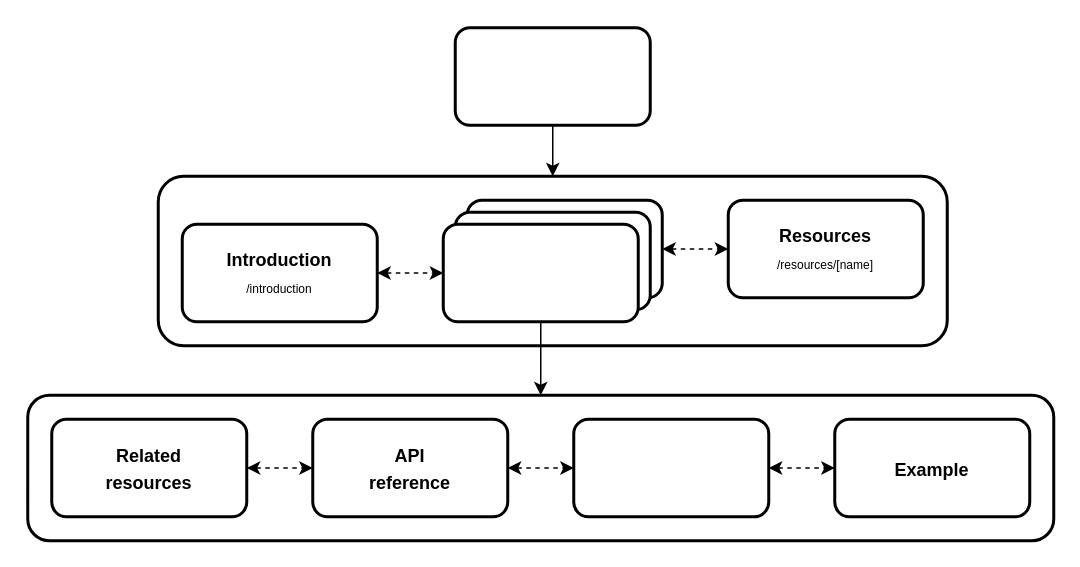
Image size: 1080x567. Some labels were removed from this diagram. Here are the shapes that lost their labels. From the top down, the centre of each, then its label:
At [552,76]: "Landing page /".
At [540,272]: "Primitives /primitives/[name]".
At [671,467]: "Anatomy".
